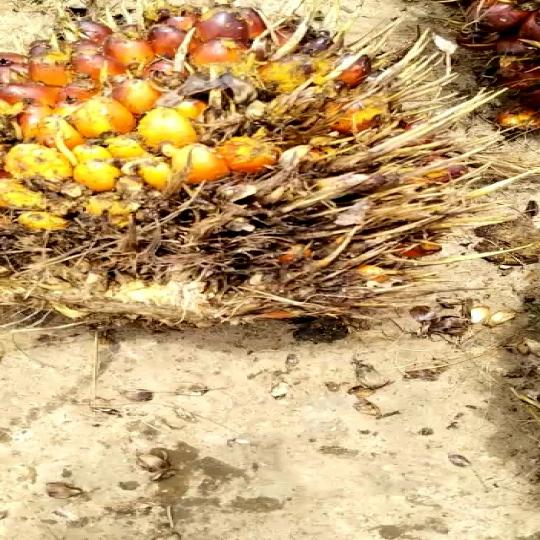masak: (0, 4, 481, 356)
